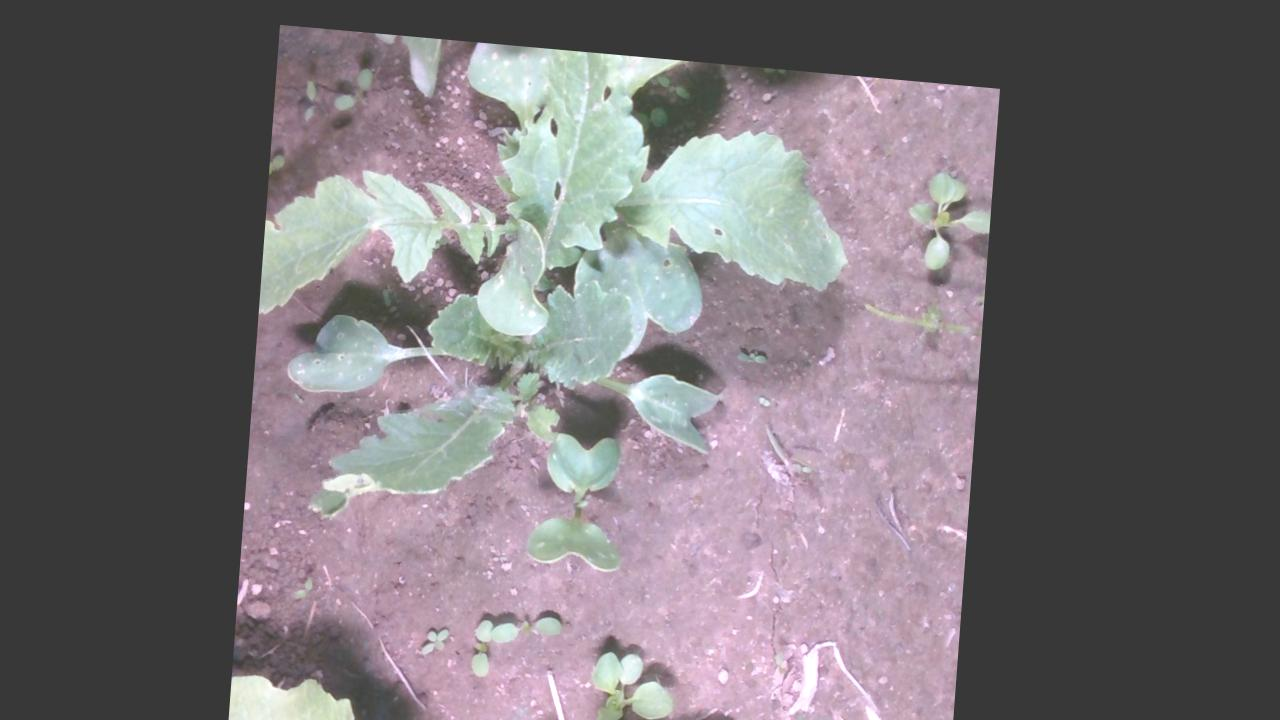weed: (426, 612, 458, 651)
